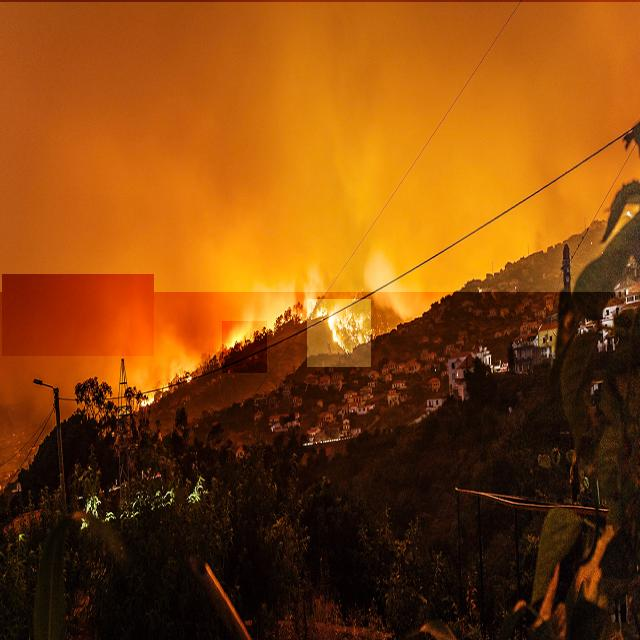Fire: (307, 299, 371, 367), (222, 321, 267, 373), (136, 385, 158, 421)
Smoke: (0, 2, 640, 292), (2, 274, 154, 356)
